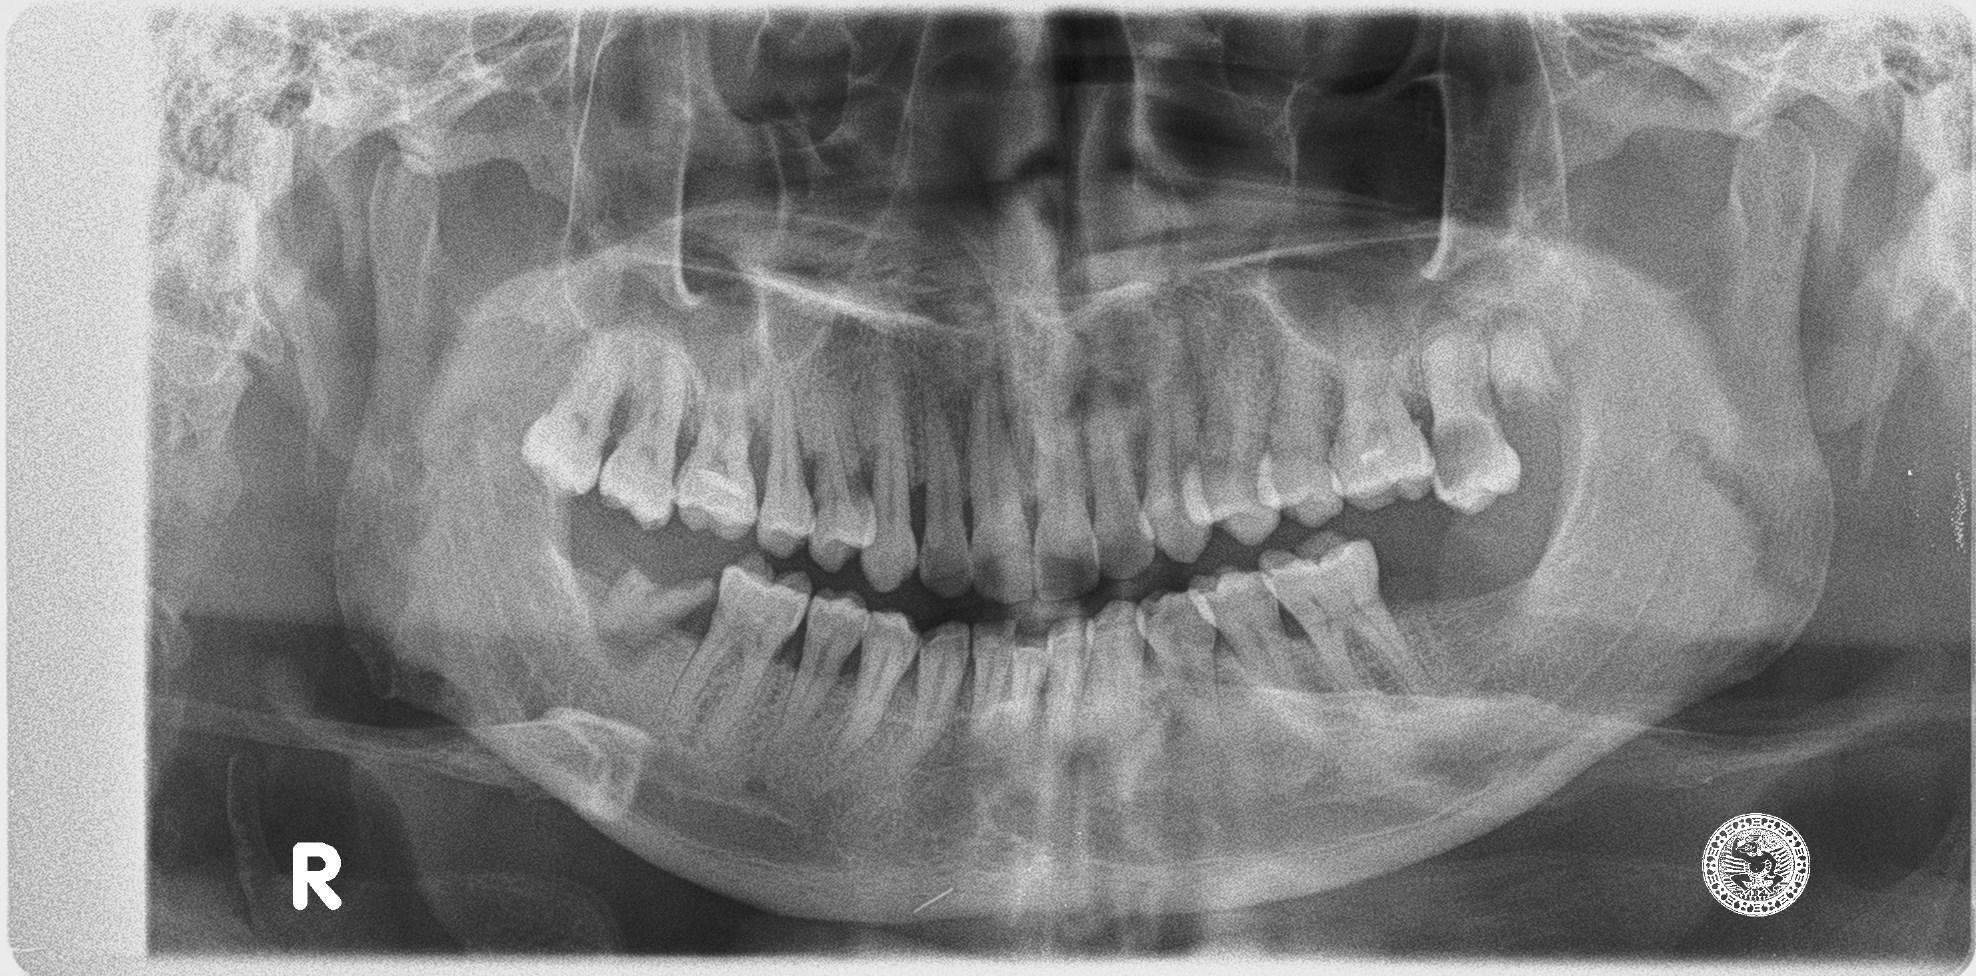Individual Tooth: (1258, 532, 1434, 729), (655, 556, 809, 748), (1180, 320, 1282, 543), (1330, 303, 1434, 509), (597, 330, 696, 527), (1143, 310, 1219, 562), (1422, 325, 1520, 512), (1258, 313, 1342, 526), (1077, 371, 1154, 578), (522, 337, 620, 494), (801, 364, 876, 571), (1186, 572, 1303, 699), (970, 377, 1035, 605), (775, 588, 870, 740), (1037, 369, 1099, 601), (861, 378, 917, 591), (675, 402, 757, 540), (1138, 591, 1219, 728), (843, 612, 917, 747), (920, 398, 970, 596), (595, 569, 715, 646), (757, 397, 815, 555), (914, 623, 970, 758), (1088, 601, 1142, 711), (1042, 617, 1085, 736), (969, 623, 1013, 726), (1008, 632, 1048, 729)
